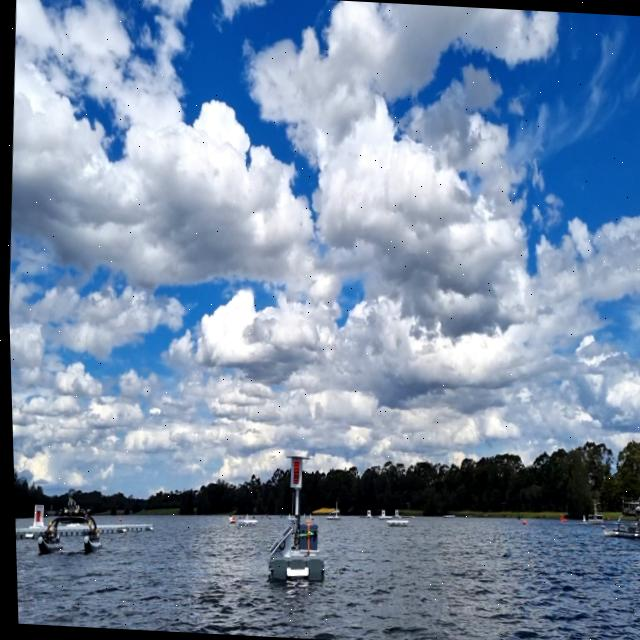led: (289, 458, 298, 486)
